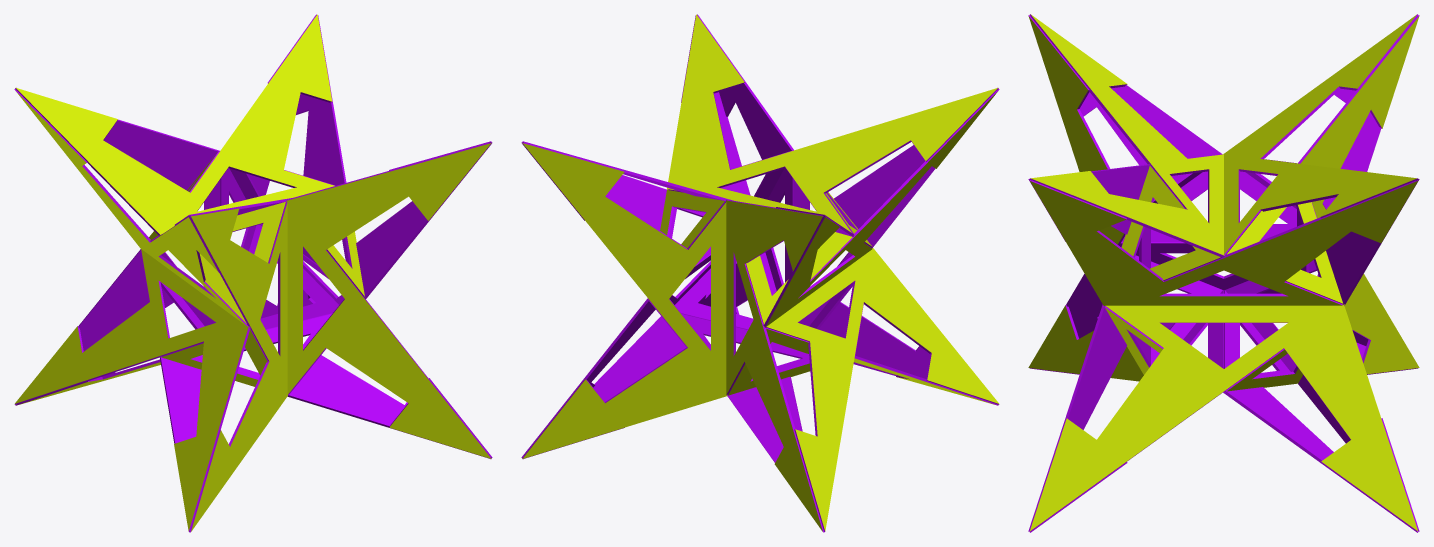
Rendered from ConcaveDodecahedronS.glb.
The picture shows the model from 3 angles, left to right: view 1: azimuth 30°, elevation 25°; view 2: azimuth 150°, elevation 25°; view 3: azimuth 270°, elevation 25°; orthographic projection. The views are drawn at different scales.
Visible parts, largest first — view 1: root; view 2: root; view 3: root.
Part boxes in pixels (x1,y1,x2,y2): root: [14, 14, 492, 532]; root: [521, 14, 999, 532]; root: [1028, 14, 1419, 532].
Bounding box in the file's own units: 6.5 × 6.5 × 6.5.
